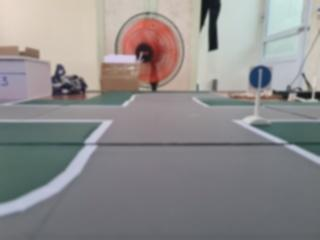straight: (247, 63, 274, 92)
